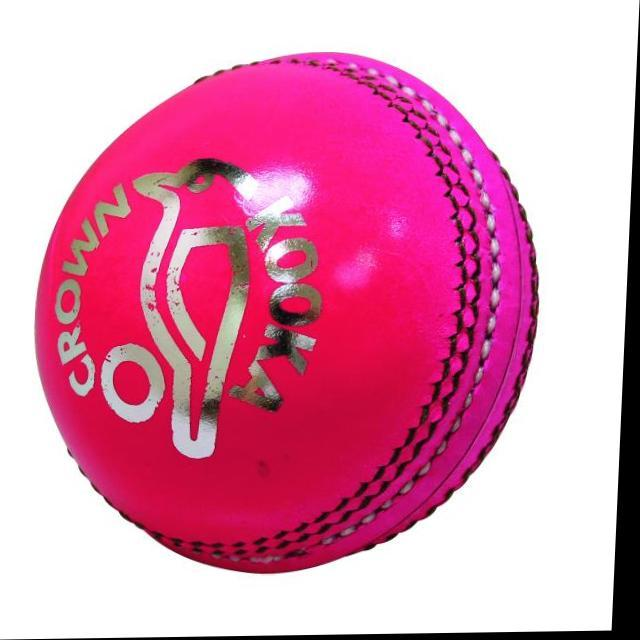cricket ball: (38, 54, 543, 576)
